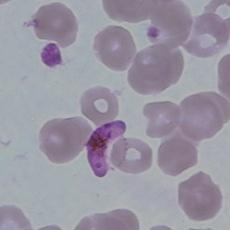Infected: (87, 120, 129, 178)
Uninfected: (129, 47, 184, 95), (39, 117, 84, 164), (179, 172, 222, 221), (33, 2, 78, 47), (180, 94, 223, 139), (187, 12, 229, 57), (94, 25, 134, 71), (157, 139, 199, 176), (80, 85, 121, 122), (112, 137, 153, 174), (142, 101, 183, 138)
